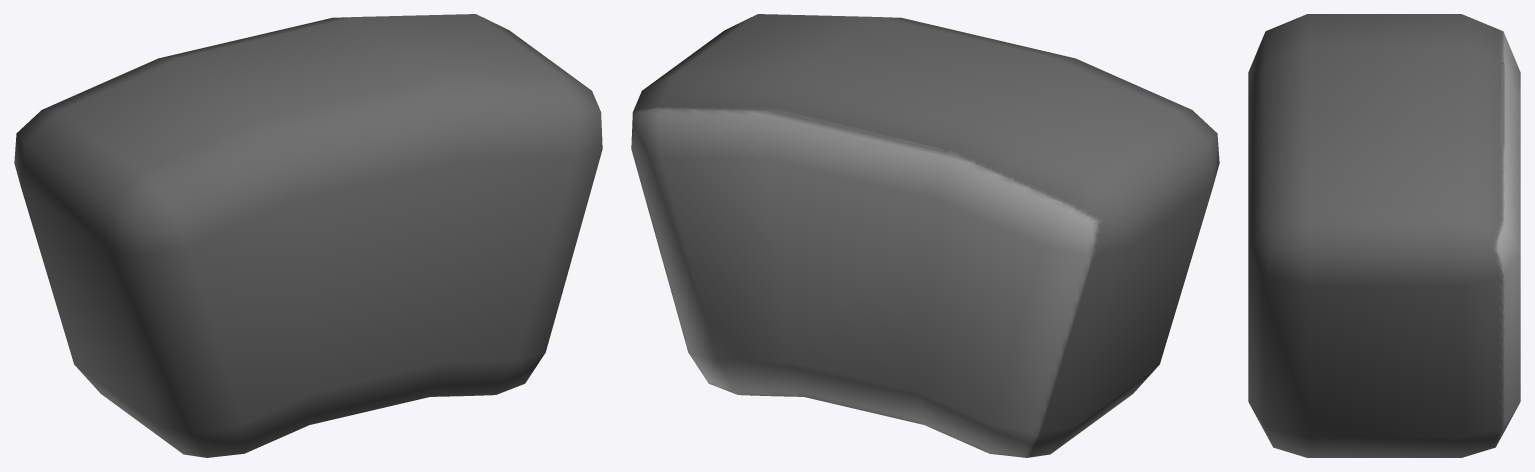
File: block4.fbx
3 renders of one model, left to right at view 1: azimuth 30°, elevation 25°; view 2: azimuth 150°, elevation 25°; view 3: azimuth 270°, elevation 25°, orthographic. The views are drawn at different scales.
Parts seen in each view (by area): view 1: castle gate.002; view 2: castle gate.002; view 3: castle gate.002.
Part boxes in pixels (bbox=[...]): castle gate.002: bbox=[14, 14, 602, 457]; castle gate.002: bbox=[631, 14, 1219, 457]; castle gate.002: bbox=[1248, 14, 1520, 457].
Size of the model in its own units: 111 by 70.84 by 57.36.
